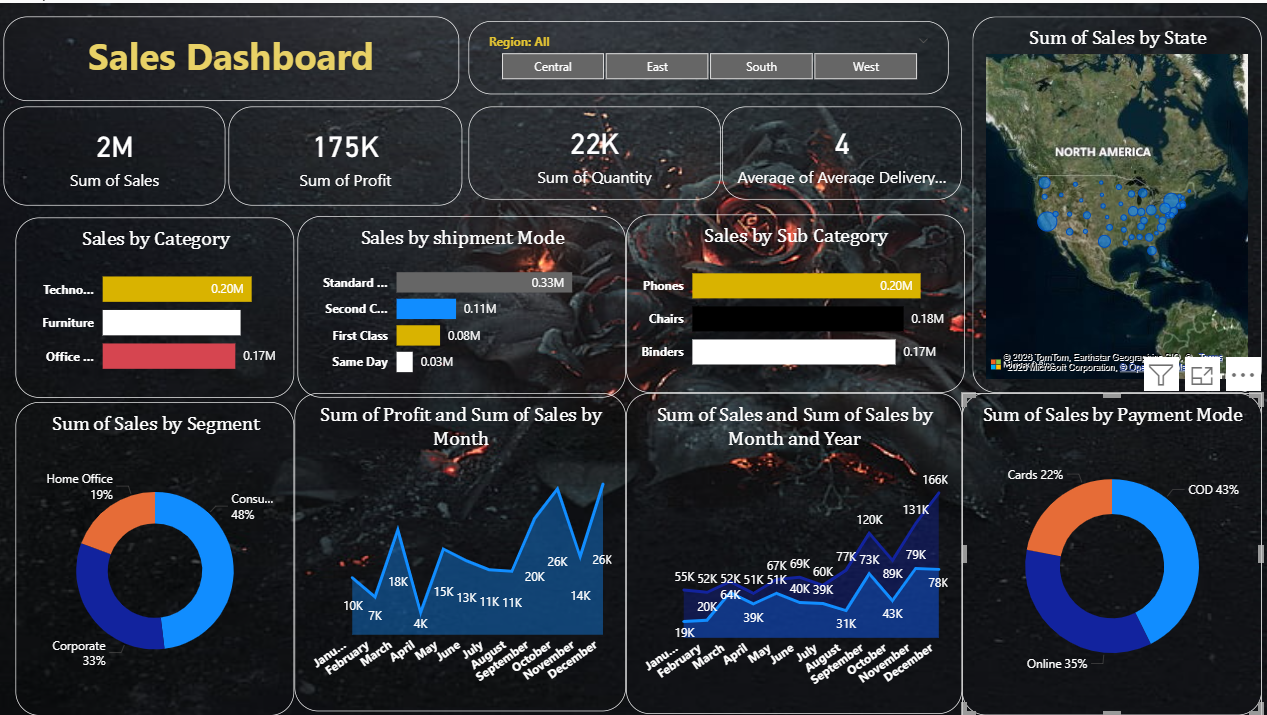

The dashboard page shown, as its layout file describes it:
{"tool":"powerbi","page":{"name":"Dashboard","canvas":[1280,720],"ordinal":0},"visuals":[{"type":"clusteredBarChart","title":"Sales by Sub Category","fields":{"Category":["SuperStore_Sales_Dataset.Sub-Category"],"Y":["Sum(SuperStore_Sales_Dataset.Sales)"]},"box":[632.9,213.5,342.2,180.2],"z":0},{"type":"clusteredBarChart","title":"Sales by shipment Mode","fields":{"Y":["Sum(SuperStore_Sales_Dataset.Sales)"],"Category":["SuperStore_Sales_Dataset.Ship Mode"]},"box":[301.3,215,331.6,183.2],"z":1000},{"type":"lineChart","fields":{"Y":["Sum(SuperStore_Sales_Dataset.Sales)"],"Category":["SuperStore_Sales_Dataset.Order Date.Variation.Date Hierarchy.Month"],"Series":["SuperStore_Sales_Dataset.Order Date.Variation.Date Hierarchy.Year"]},"box":[645.1,405.8,327.1,311.9],"z":2000},{"type":"clusteredBarChart","title":"Sales by Category","fields":{"Y":["Sum(SuperStore_Sales_Dataset.Sales)"],"Category":["SuperStore_Sales_Dataset.Category"]},"box":[16.7,216.5,281.6,181.7],"z":3000},{"type":"stackedAreaChart","fields":{"Y":["Sum(SuperStore_Sales_Dataset.Profit)"],"Category":["SuperStore_Sales_Dataset.Order Date.Variation.Date Hierarchy.Month"]},"box":[307.4,407.3,321,311.9],"z":4000},{"type":"map","fields":{"Category":["SuperStore_Sales_Dataset.State"],"Size":["Sum(SuperStore_Sales_Dataset.Sales)"]},"box":[983.3,13.3,291.7,380],"z":5000},{"type":"donutChart","fields":{"Category":["SuperStore_Sales_Dataset.Segment"],"Y":["Sum(SuperStore_Sales_Dataset.Sales)"]},"box":[16.7,402.8,281.6,316.5],"z":6000},{"type":"donutChart","fields":{"Category":["SuperStore_Sales_Dataset.Payment Mode"],"Y":["Sum(SuperStore_Sales_Dataset.Sales)"]},"box":[982.7,402.8,292.2,316.5],"z":7000},{"type":"slicer","fields":{"Values":["SuperStore_Sales_Dataset.Region"]},"box":[473.9,18.2,484.5,74.2],"z":8000},{"type":"textbox","box":[5,13.3,460,85],"z":9000},{"type":"card","fields":{"Values":["Sum(SuperStore_Sales_Dataset.Profit)"]},"box":[231.7,104.5,236.2,99.9],"z":10000},{"type":"card","fields":{"Values":["Sum(SuperStore_Sales_Dataset.Quantity)"]},"box":[473.9,104.5,254.4,93.9],"z":11000},{"type":"card","fields":{"Values":["Avg(SuperStore_Sales_Dataset.Average Delivery Days)"]},"box":[729.8,104.5,242.3,93.9],"z":12000},{"type":"card","fields":{"Values":["Sum(SuperStore_Sales_Dataset.Sales)"]},"box":[4.5,104.5,224.1,99.9],"z":13000}]}

Visuals, with their boxes in screenshot pixels (x1, y1, x2, y2), scaled from the page's 1280x720 canvas onto the 1267x715 screenshot:
"Sales by Sub Category" clusteredBarChart: Rect(626, 212, 965, 391)
"Sales by shipment Mode" clusteredBarChart: Rect(298, 214, 626, 395)
lineChart - Sum(SuperStore_Sales_Dataset.Sales) x SuperStore_Sales_Dataset.Order Date.Variation.Date Hierarchy.Month: Rect(639, 403, 962, 713)
"Sales by Category" clusteredBarChart: Rect(17, 215, 295, 395)
stackedAreaChart - Sum(SuperStore_Sales_Dataset.Profit) x SuperStore_Sales_Dataset.Order Date.Variation.Date Hierarchy.Month: Rect(304, 404, 622, 714)
map - SuperStore_Sales_Dataset.State x Sum(SuperStore_Sales_Dataset.Sales): Rect(973, 13, 1262, 391)
donutChart - SuperStore_Sales_Dataset.Segment x Sum(SuperStore_Sales_Dataset.Sales): Rect(17, 400, 295, 714)
donutChart - SuperStore_Sales_Dataset.Payment Mode x Sum(SuperStore_Sales_Dataset.Sales): Rect(973, 400, 1262, 714)
slicer - SuperStore_Sales_Dataset.Region: Rect(469, 18, 949, 92)
textbox: Rect(5, 13, 460, 98)
card - Sum(SuperStore_Sales_Dataset.Profit): Rect(229, 104, 463, 203)
card - Sum(SuperStore_Sales_Dataset.Quantity): Rect(469, 104, 721, 197)
card - Avg(SuperStore_Sales_Dataset.Average Delivery Days): Rect(722, 104, 962, 197)
card - Sum(SuperStore_Sales_Dataset.Sales): Rect(4, 104, 226, 203)
